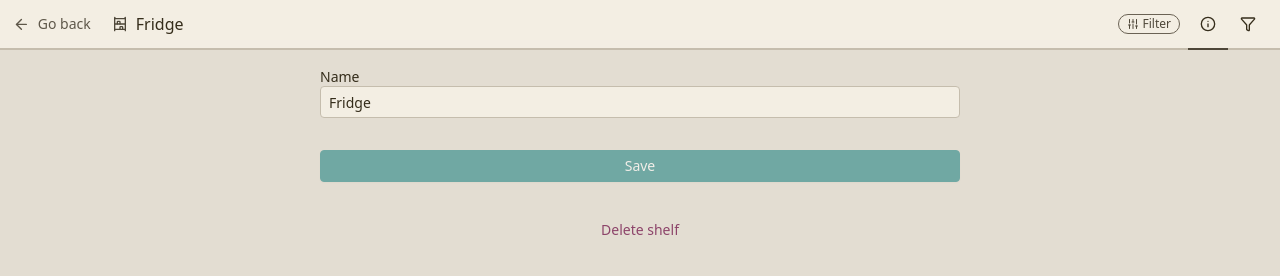
it: Shelf Settings - Info Tab › shows required error when name is cleared
When user clears the name field
Step 1. Clear the field named "Shelf name" → [640, 102], box [320, 86, 960, 118]
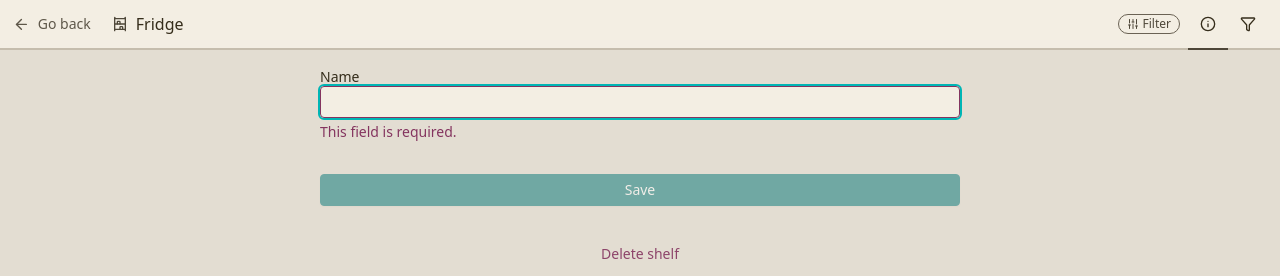
Expected: the text "This field is required." is shown, [320, 122, 457, 141]
